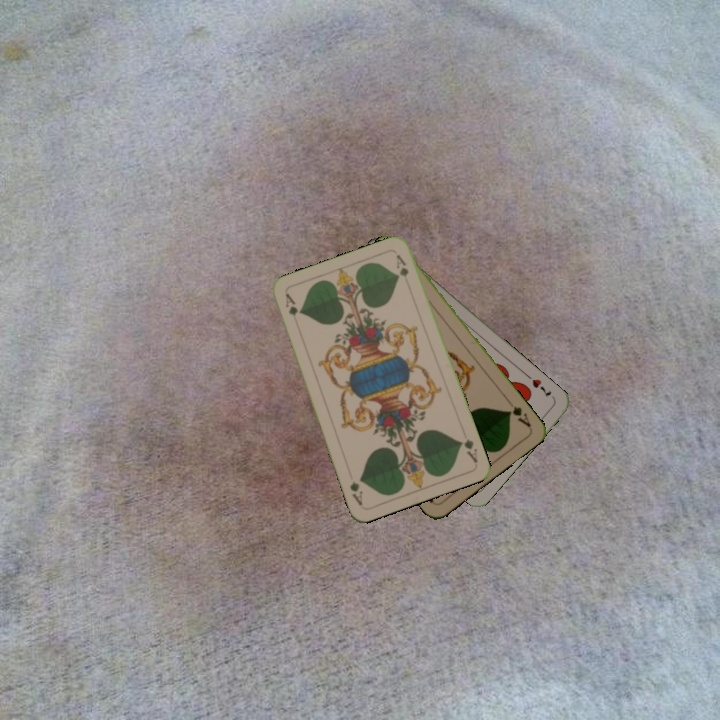GA: (504, 402, 533, 430), (456, 435, 480, 466), (281, 290, 301, 319)
H7: (528, 375, 554, 400)
